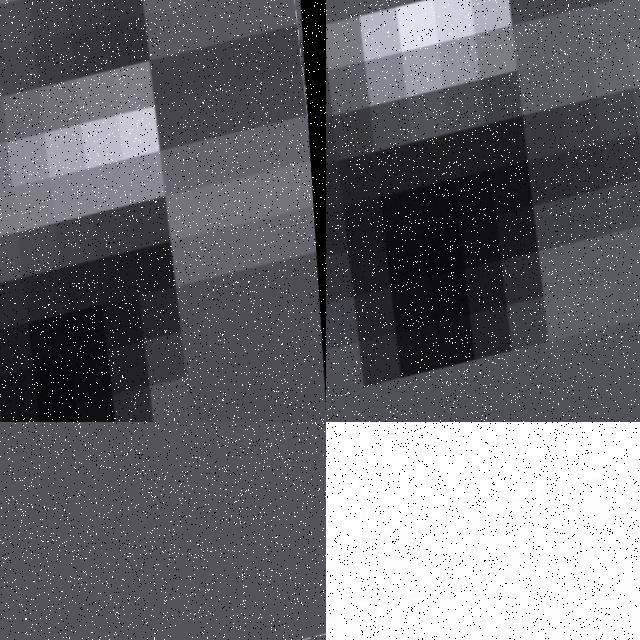0: (0, 0, 326, 422), (326, 0, 640, 422), (0, 422, 326, 640)
drone: (326, 422, 640, 640)
